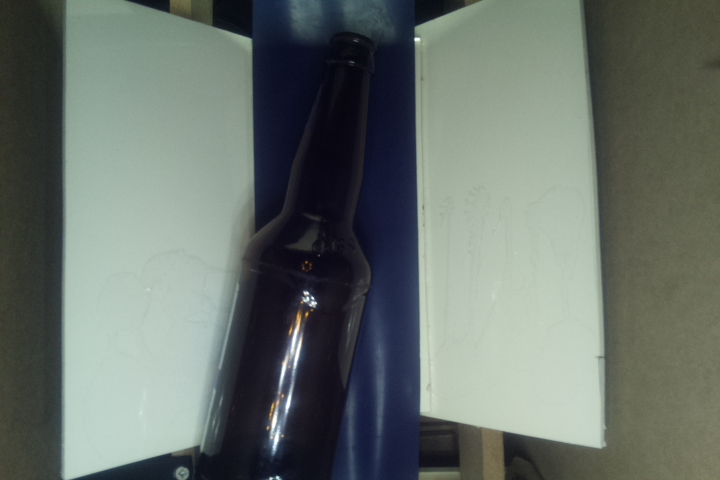makju: (195, 34, 376, 480)
